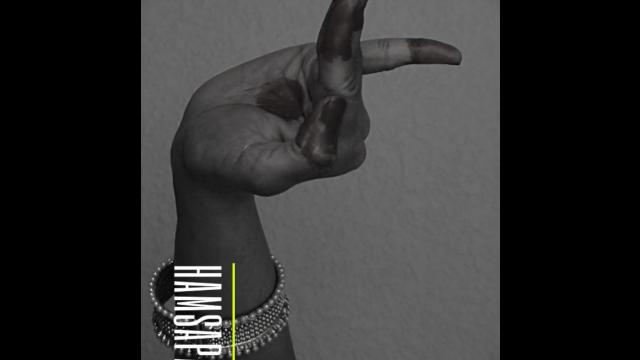Hamsapaksha: (153, 0, 466, 250)
